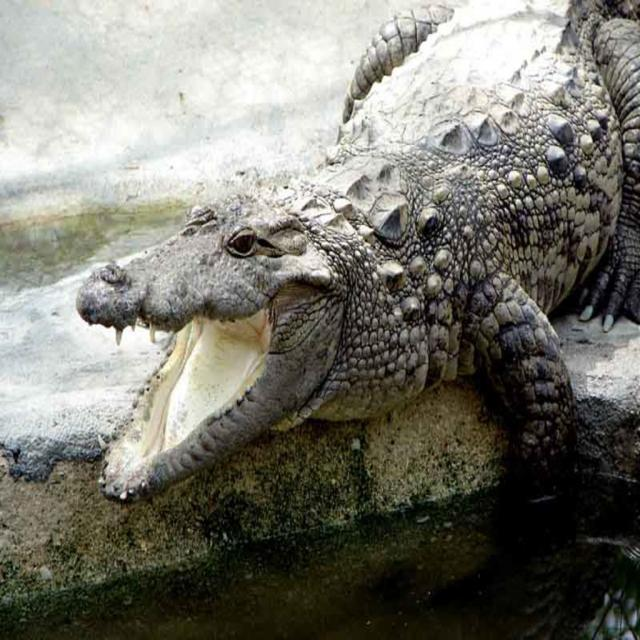crocodile: (70, 0, 639, 516)
